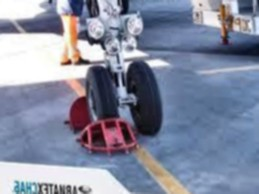chock: (74, 116, 140, 158), (64, 95, 92, 135)
wheel: (124, 60, 165, 136), (83, 65, 120, 123)
